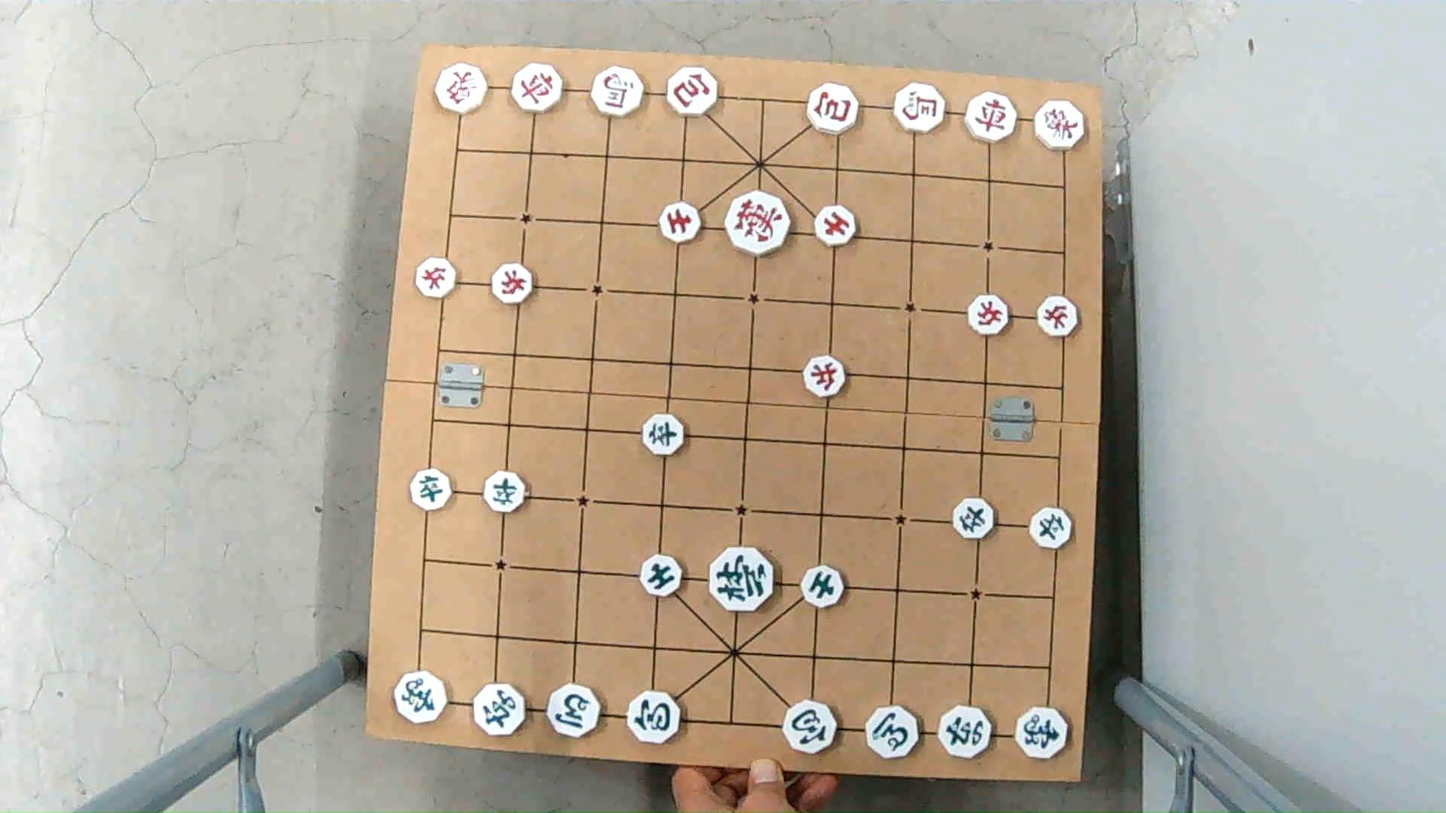cha_green: (474, 688, 530, 737), (937, 707, 993, 756)
cha_red: (964, 92, 1020, 142), (510, 65, 566, 111)
jol_green: (481, 473, 528, 512), (639, 416, 686, 455), (407, 471, 453, 510), (950, 501, 995, 540), (1027, 510, 1072, 548)
jol_red: (966, 294, 1010, 336), (801, 358, 850, 394), (489, 265, 535, 302), (413, 260, 459, 296), (1034, 299, 1078, 336)
ma_green: (863, 707, 919, 757), (546, 687, 603, 734)
ma_red: (891, 84, 948, 131), (590, 69, 647, 115)
po_green: (624, 693, 681, 743), (782, 702, 838, 751)
po_red: (664, 69, 721, 115), (807, 84, 863, 130)
sa_green: (800, 565, 848, 607), (637, 555, 686, 593)
sa_red: (656, 202, 703, 245), (811, 207, 858, 248)
sang_green: (1012, 708, 1069, 757), (391, 671, 447, 719)
sang_red: (435, 66, 492, 112), (1033, 102, 1088, 148)
wang_green: (706, 552, 776, 611)
wang_red: (726, 192, 795, 253)
